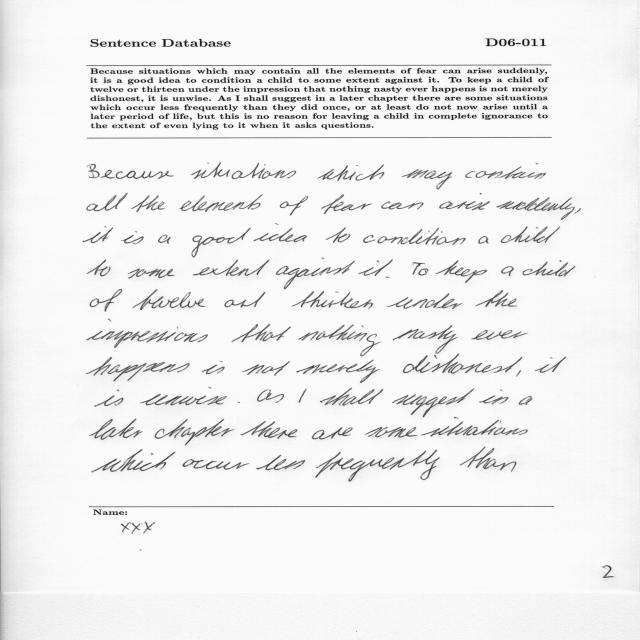word: (315, 450, 440, 482), (87, 319, 208, 348), (298, 325, 381, 357), (86, 357, 190, 381), (276, 258, 355, 289), (403, 354, 523, 374), (392, 389, 474, 418), (421, 417, 528, 437), (155, 419, 235, 445), (92, 449, 175, 473), (296, 360, 380, 383), (393, 325, 458, 354), (496, 197, 575, 220), (191, 228, 251, 258), (191, 163, 296, 180), (363, 228, 466, 245), (140, 388, 227, 406), (133, 289, 206, 310), (179, 194, 263, 212), (291, 291, 373, 309), (460, 447, 517, 472), (465, 163, 546, 179), (193, 259, 269, 276), (88, 164, 174, 179), (387, 293, 463, 309), (436, 260, 487, 283), (90, 418, 143, 440), (320, 388, 384, 406), (318, 164, 385, 181), (232, 324, 291, 342), (253, 224, 307, 243), (241, 421, 298, 439), (501, 226, 560, 243), (402, 169, 452, 189), (321, 195, 372, 214), (439, 193, 490, 211), (522, 260, 575, 277), (182, 459, 250, 470), (87, 193, 128, 211), (90, 289, 122, 312), (257, 455, 306, 470), (242, 361, 290, 376), (476, 290, 518, 307), (225, 292, 266, 307), (131, 196, 165, 213), (359, 259, 393, 276), (471, 330, 528, 340), (280, 196, 308, 216), (312, 427, 353, 440), (365, 427, 417, 437), (83, 226, 113, 243), (535, 357, 566, 373), (95, 390, 124, 407), (128, 269, 175, 279), (479, 390, 508, 405), (87, 260, 111, 277), (326, 227, 350, 243), (257, 390, 284, 403), (381, 202, 423, 210), (121, 231, 143, 244), (202, 361, 224, 374), (413, 262, 428, 275), (501, 266, 514, 276), (298, 389, 307, 403), (519, 396, 533, 405), (158, 235, 171, 244), (478, 236, 489, 244), (574, 208, 581, 214), (517, 370, 522, 377), (386, 276, 390, 278), (238, 402, 240, 403)
